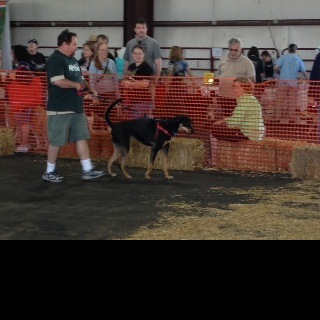without_mask: (66, 36, 77, 57), (229, 42, 240, 57), (135, 23, 146, 36), (132, 48, 142, 62), (233, 81, 242, 96), (82, 45, 92, 56), (99, 45, 108, 57), (30, 41, 37, 49)
